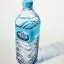plastic: (14, 0, 41, 64)
